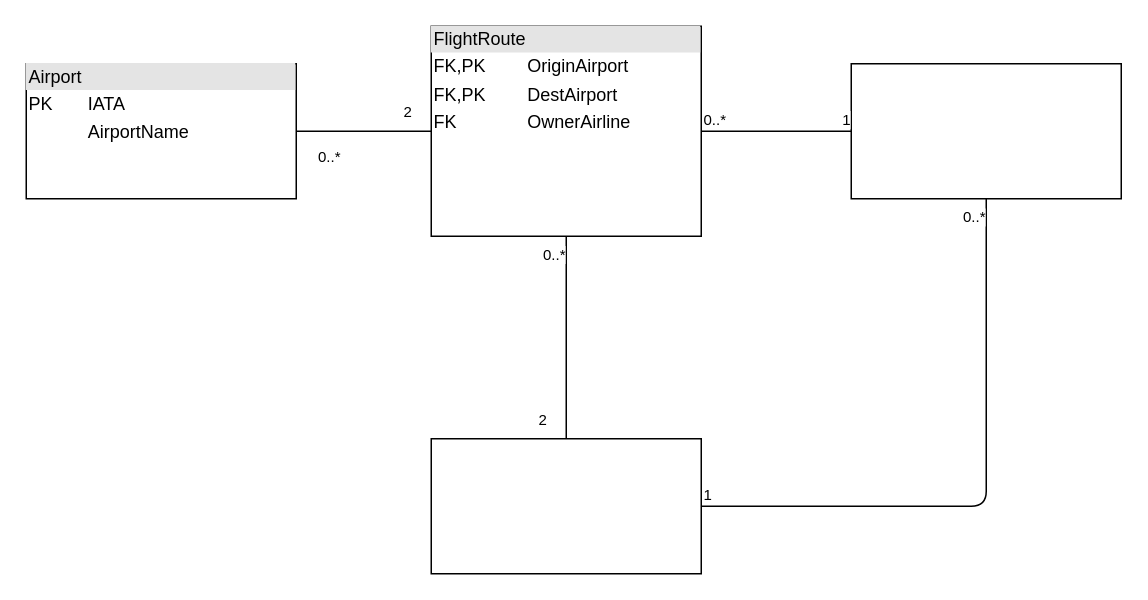
Some shapes in this 1148 by 600 pixel diagram are drawn without their labels. Here are the shapes that lost their labels. From the top down, the box of each, then its label:
(850, 62, 1121, 199): Airline PK AirlineName
(430, 437, 701, 574): RouteOperator PK,FK OriginAirport PK,FK DestAirport PK,FK AirlineOperator
